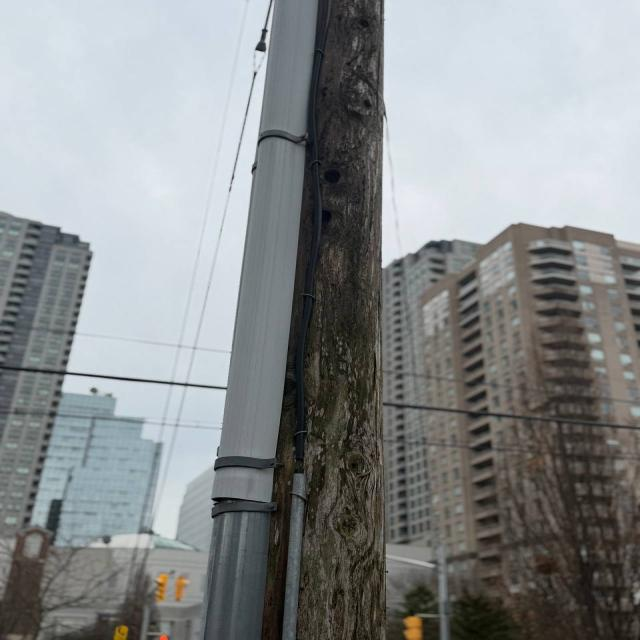Electrical Pole: (198, 0, 397, 637)
